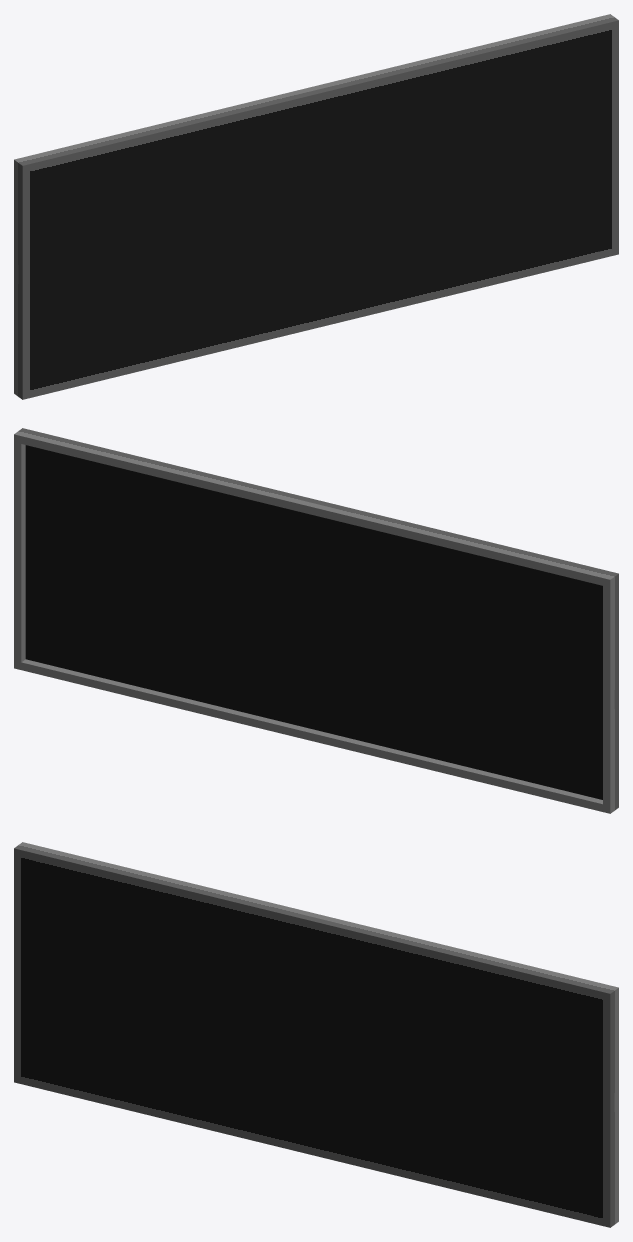
Rendered from screen.dae.
The picture shows the model from 3 angles, top to bottom: view 1: azimuth 30°, elevation 25°; view 2: azimuth 150°, elevation 25°; view 3: azimuth 330°, elevation 25°; orthographic projection.
Parts seen in each view (by area): view 1: screen; view 2: screen; view 3: screen.
Boxes of the visible parts, x1,y1,x2,y2 form: screen: (14, 14, 618, 399); screen: (14, 428, 618, 813); screen: (14, 842, 618, 1227).
Size of the model in its own units: 8 by 0.2 by 3.
1 material, 1 textured.
